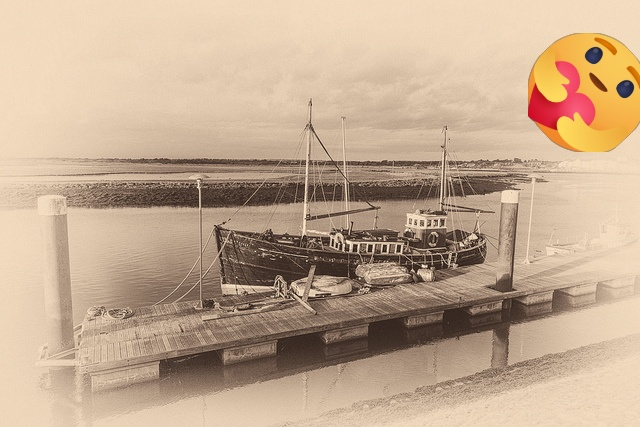care: (528, 33, 640, 152)
